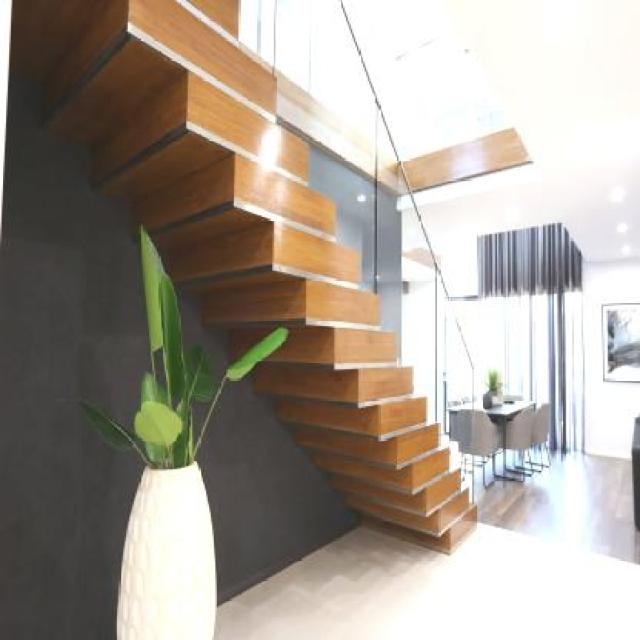stair: (133, 0, 516, 566)
